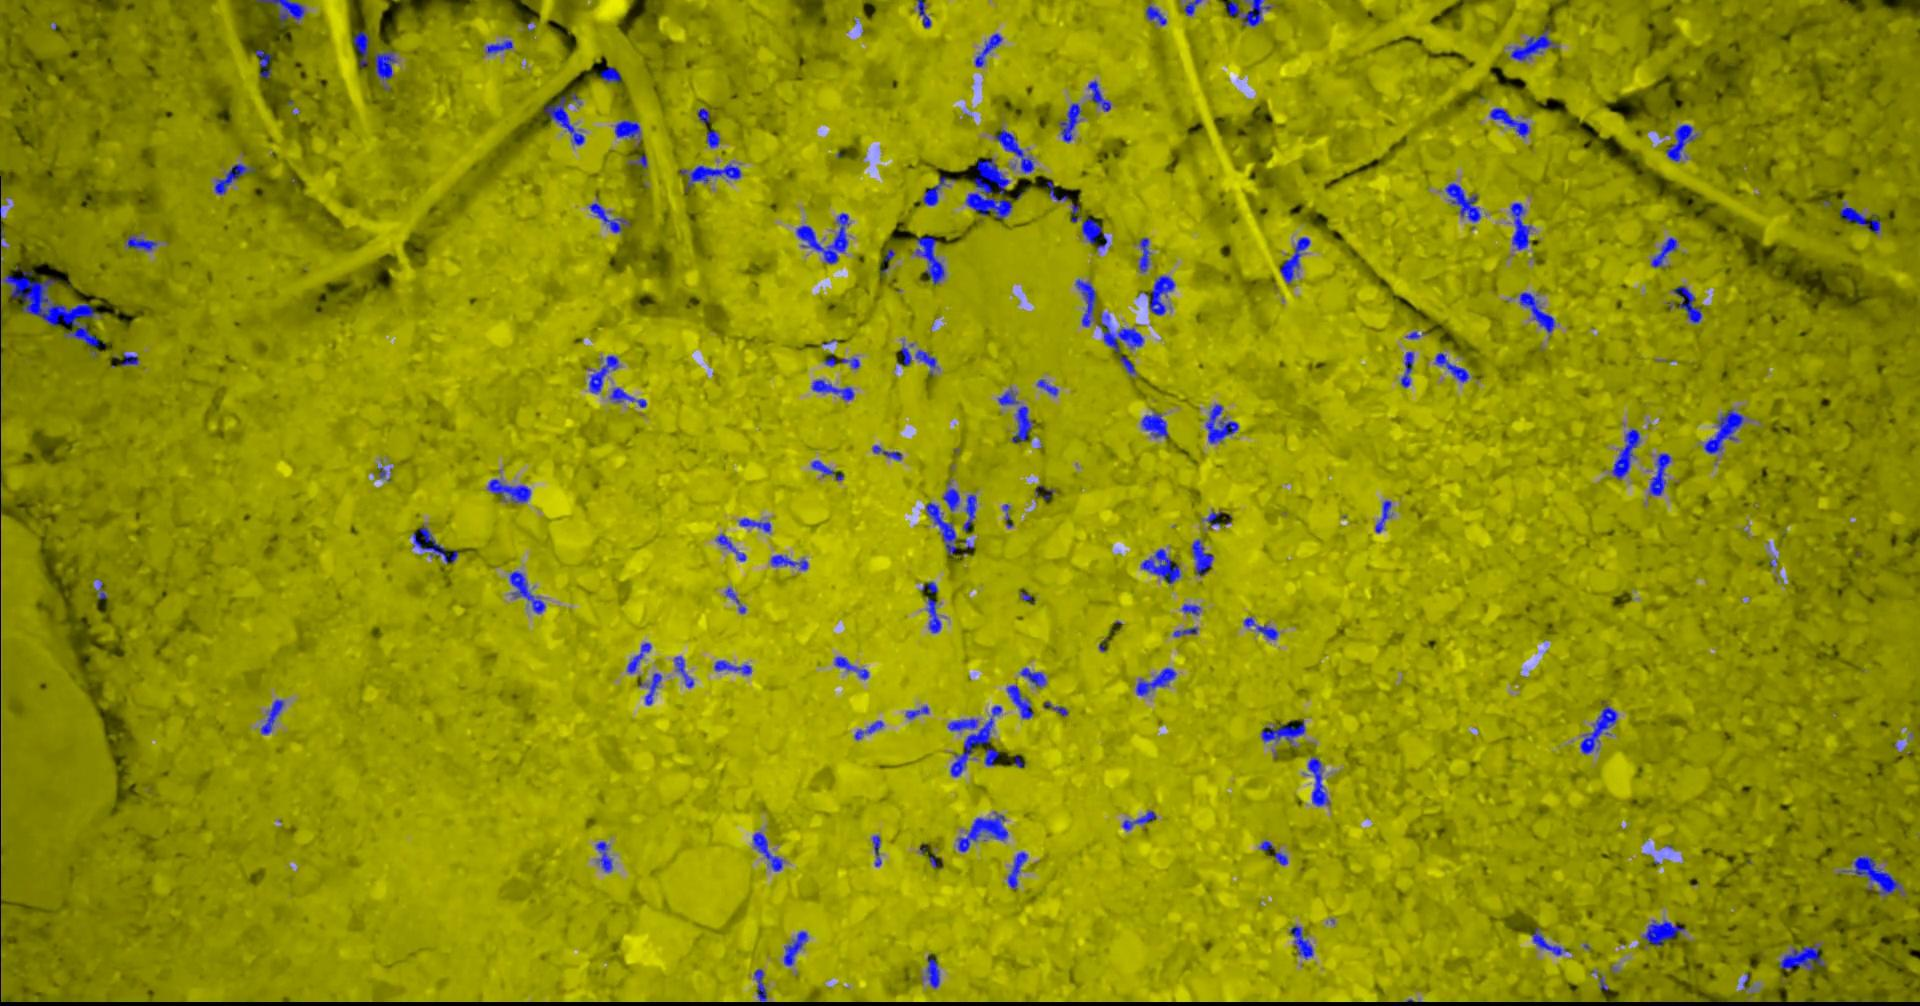ant: (947, 705, 1001, 776), (795, 212, 848, 263), (1841, 855, 1903, 895), (543, 95, 584, 144), (957, 812, 1007, 851), (1703, 408, 1743, 453), (1580, 705, 1617, 753), (1097, 312, 1143, 351), (411, 526, 457, 563), (924, 502, 956, 554), (994, 130, 1032, 173), (679, 164, 740, 191), (1510, 25, 1557, 60), (509, 570, 545, 614), (1279, 236, 1309, 285), (1519, 292, 1556, 332), (1611, 428, 1639, 479), (914, 236, 943, 285), (1444, 183, 1481, 221), (1140, 547, 1180, 583), (1140, 276, 1175, 314), (1205, 404, 1238, 443), (588, 202, 630, 232), (1778, 944, 1825, 970), (215, 163, 254, 194), (255, 0, 303, 25), (752, 832, 782, 871), (1839, 203, 1879, 232), (1665, 124, 1697, 161), (1224, 0, 1270, 25), (1490, 107, 1528, 137), (588, 354, 618, 392), (1307, 756, 1330, 807), (1672, 285, 1702, 323), (897, 345, 936, 373), (1135, 667, 1175, 695), (1642, 920, 1684, 945), (1531, 927, 1570, 955), (1510, 202, 1531, 249), (488, 478, 530, 502), (1434, 352, 1468, 381), (1076, 278, 1096, 326), (922, 175, 955, 205), (1261, 720, 1304, 742), (974, 33, 1001, 67), (811, 379, 853, 400), (1648, 453, 1670, 495), (1058, 103, 1081, 142), (1006, 685, 1032, 718), (260, 699, 284, 734), (783, 930, 808, 965), (715, 533, 745, 561), (834, 655, 869, 680), (1011, 406, 1034, 442), (626, 641, 651, 673), (1081, 218, 1107, 248), (1651, 238, 1677, 267), (1191, 539, 1213, 574), (1289, 925, 1312, 958), (1007, 851, 1027, 888), (1243, 617, 1277, 639), (639, 673, 662, 705), (610, 387, 646, 406), (1087, 80, 1110, 111), (1142, 412, 1168, 437), (1121, 810, 1156, 829), (375, 50, 395, 80), (674, 655, 693, 687), (352, 30, 368, 66), (770, 554, 808, 569), (725, 587, 745, 614), (963, 494, 977, 532), (1018, 667, 1046, 686), (855, 720, 883, 739), (126, 234, 157, 250), (1375, 500, 1392, 532), (1399, 351, 1413, 387), (714, 661, 750, 674), (596, 841, 612, 871), (926, 597, 940, 633), (615, 119, 640, 138), (254, 50, 270, 77), (872, 445, 902, 460), (753, 968, 766, 1002), (926, 954, 938, 987), (1145, 5, 1166, 25), (1046, 180, 1067, 201), (738, 518, 770, 531), (942, 486, 959, 511), (1138, 238, 1149, 272), (485, 39, 512, 53), (599, 66, 621, 83), (997, 389, 1018, 405), (810, 460, 833, 475), (917, 0, 930, 27), (1036, 379, 1057, 395), (1044, 701, 1067, 715), (1119, 354, 1135, 373), (872, 835, 881, 866), (1183, 0, 1201, 15), (1034, 484, 1053, 498), (905, 706, 928, 718), (705, 130, 719, 147), (1002, 503, 1012, 527), (984, 748, 998, 765), (1173, 627, 1197, 636), (1205, 511, 1220, 525), (696, 107, 709, 123), (921, 580, 937, 593), (629, 155, 646, 166), (841, 357, 858, 368), (1070, 203, 1081, 222), (119, 354, 138, 365), (1272, 851, 1288, 864), (1181, 603, 1199, 614)
